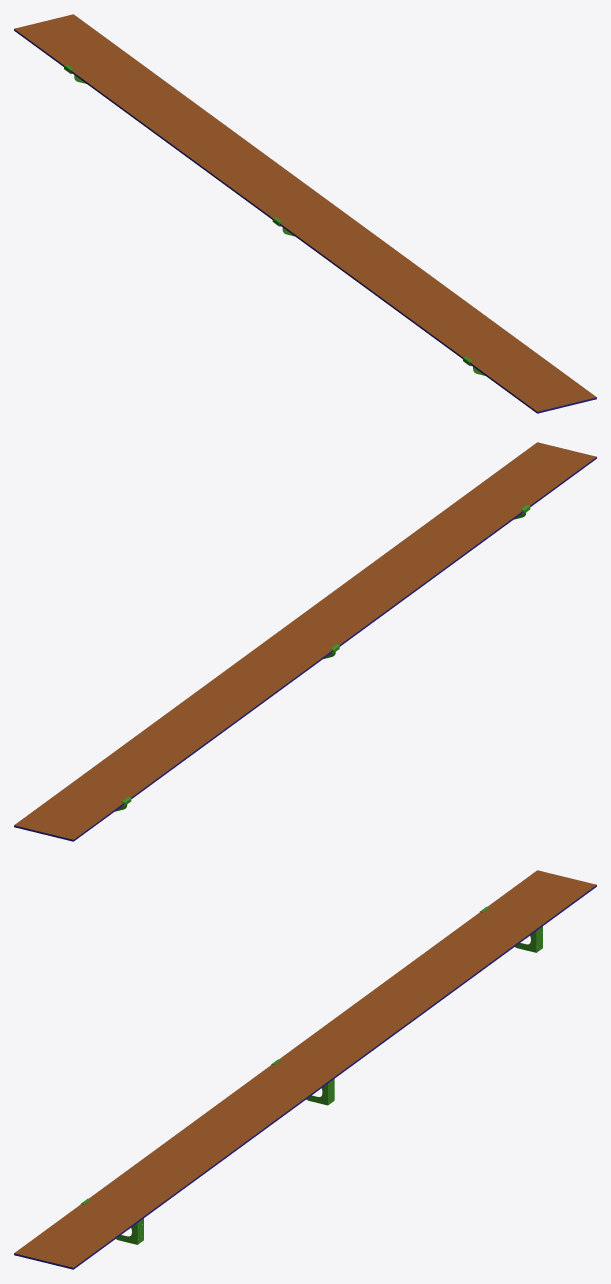
Rendered from dachueberstand_start.FBX.
3 views of the same model, one above another, from view 1: azimuth 30°, elevation 25°; view 2: azimuth 150°, elevation 25°; view 3: azimuth 330°, elevation 25° (orthographic).
Parts seen in each view (by area): view 1: dachueberstand_start; view 2: dachueberstand_start; view 3: dachueberstand_start.
Boxes of the visible parts, x1,y1,x2,y2 form: dachueberstand_start: (14, 14, 596, 413); dachueberstand_start: (14, 442, 596, 841); dachueberstand_start: (14, 870, 596, 1269).
Size of the model in its own units: 2.68 by 1.18 by 40.3.
